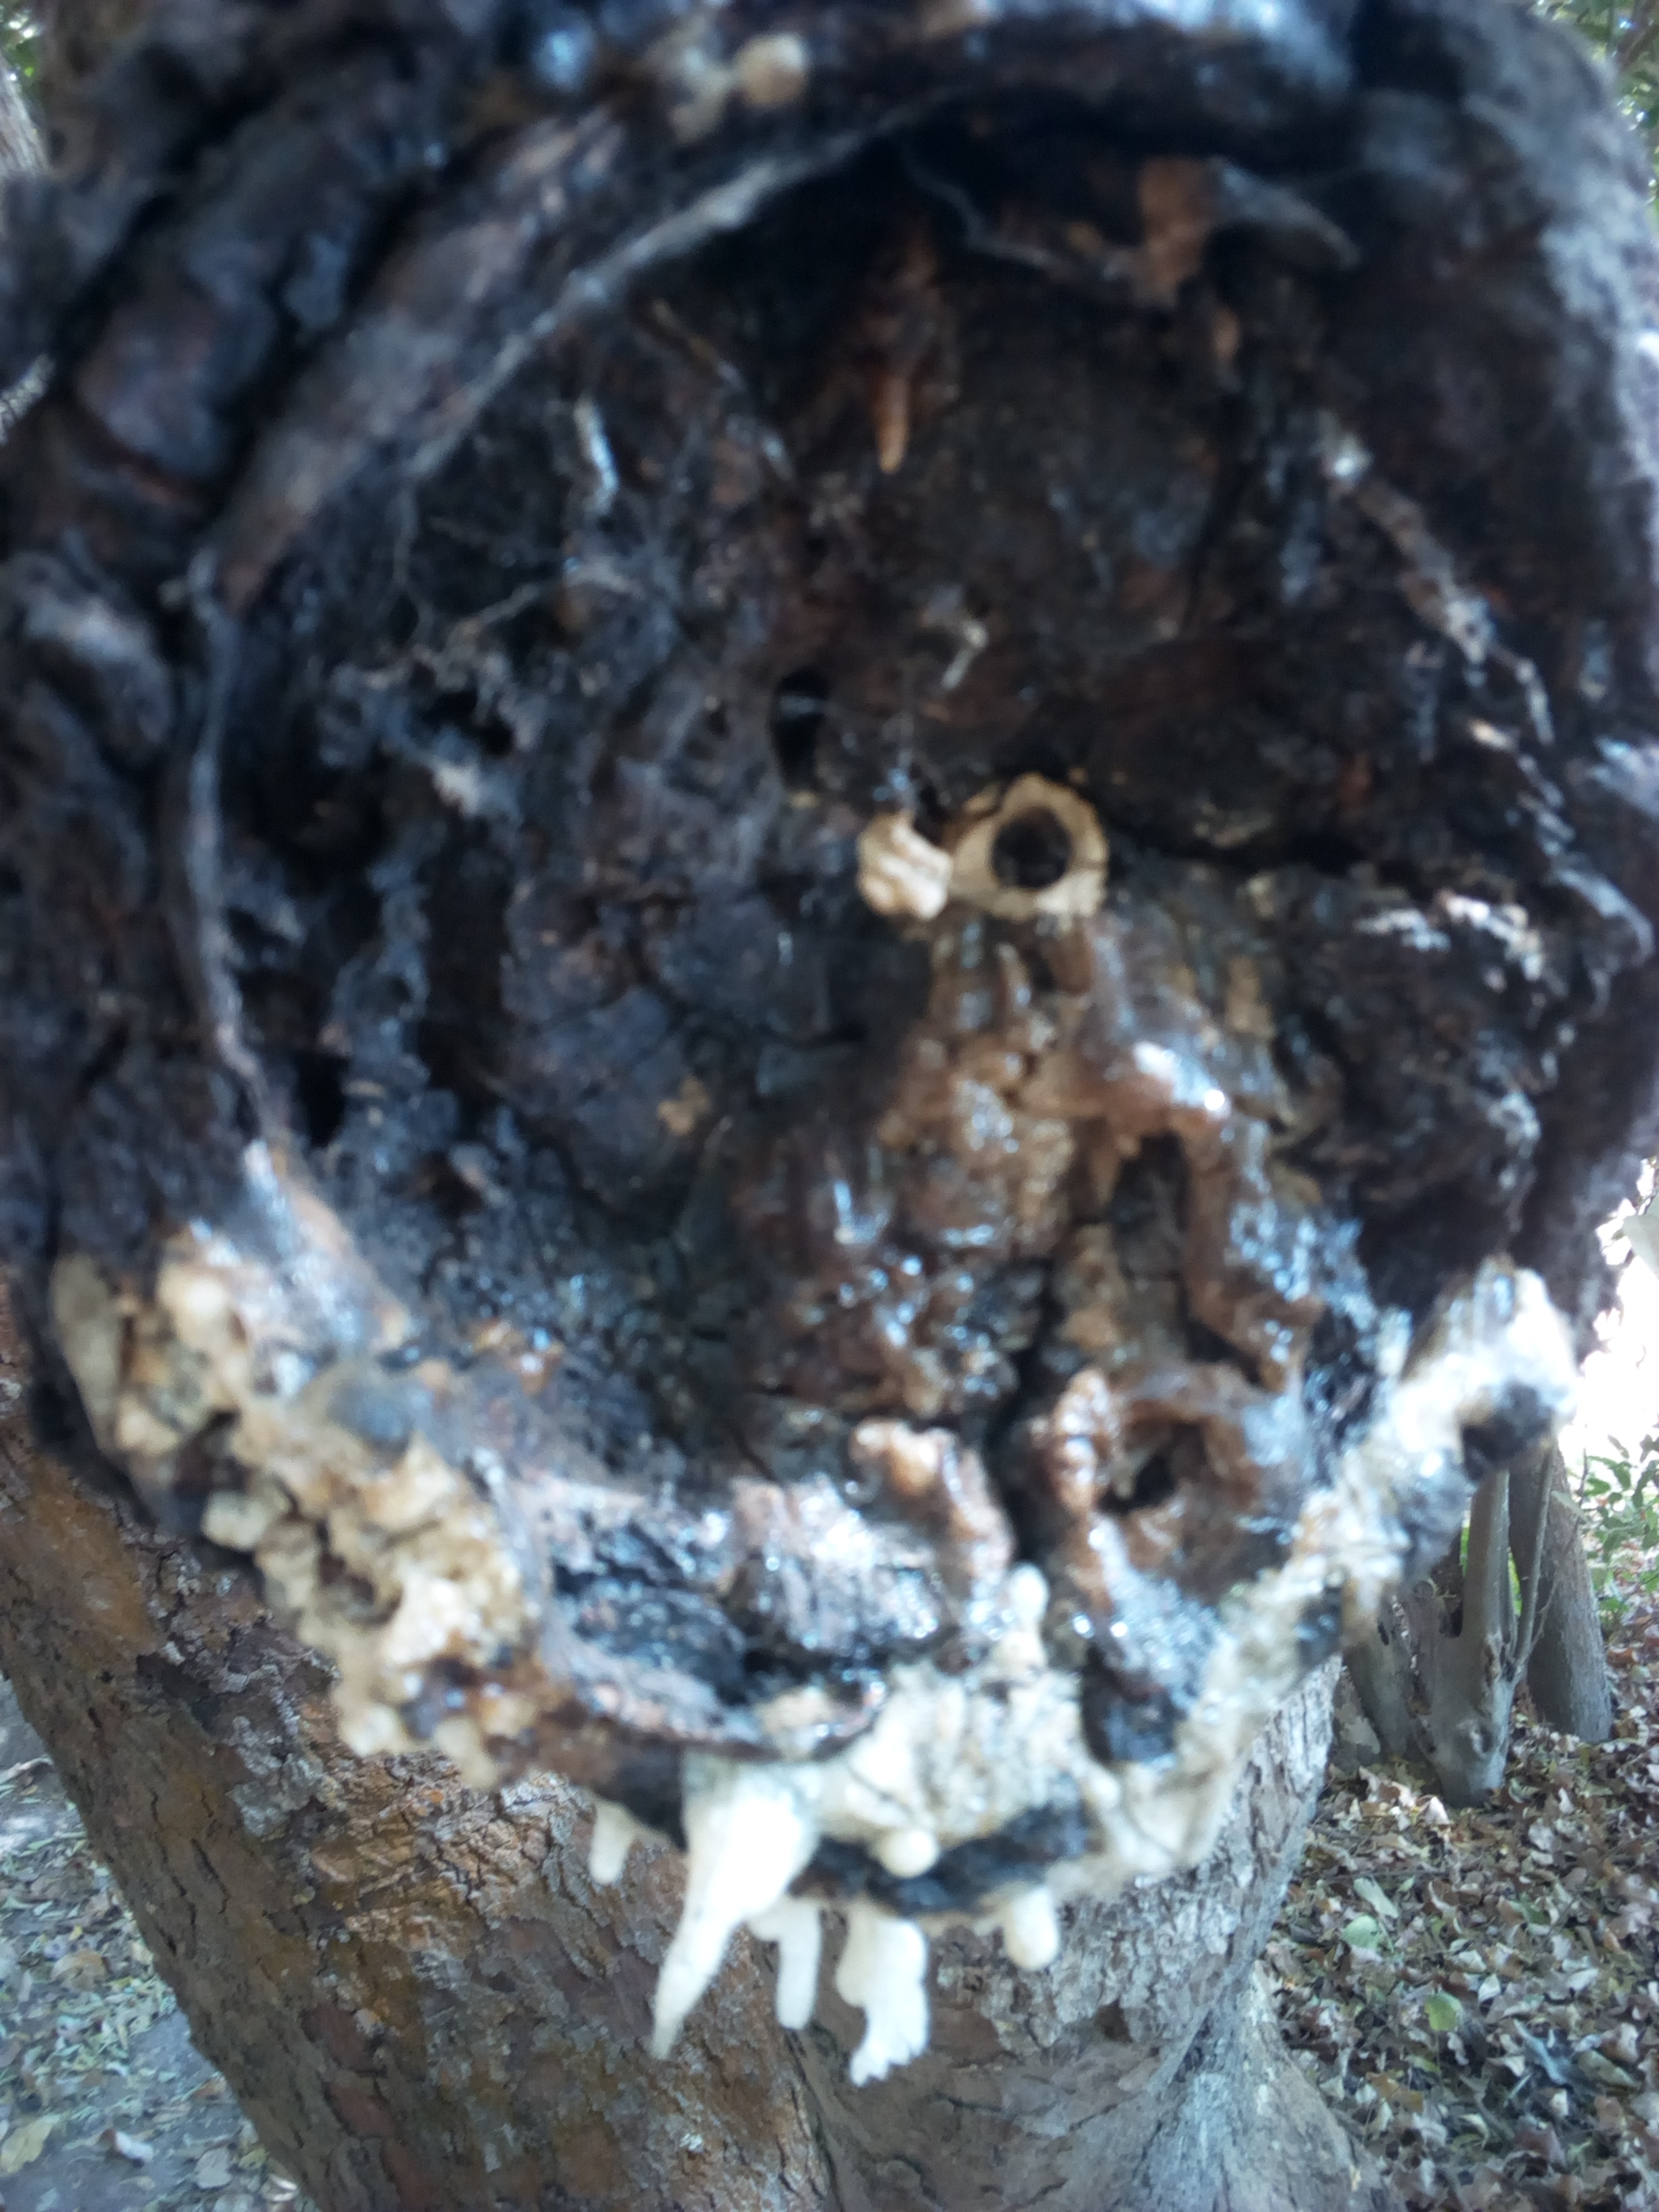ploceadorus ferrugineus: (206, 99, 1537, 2066)
